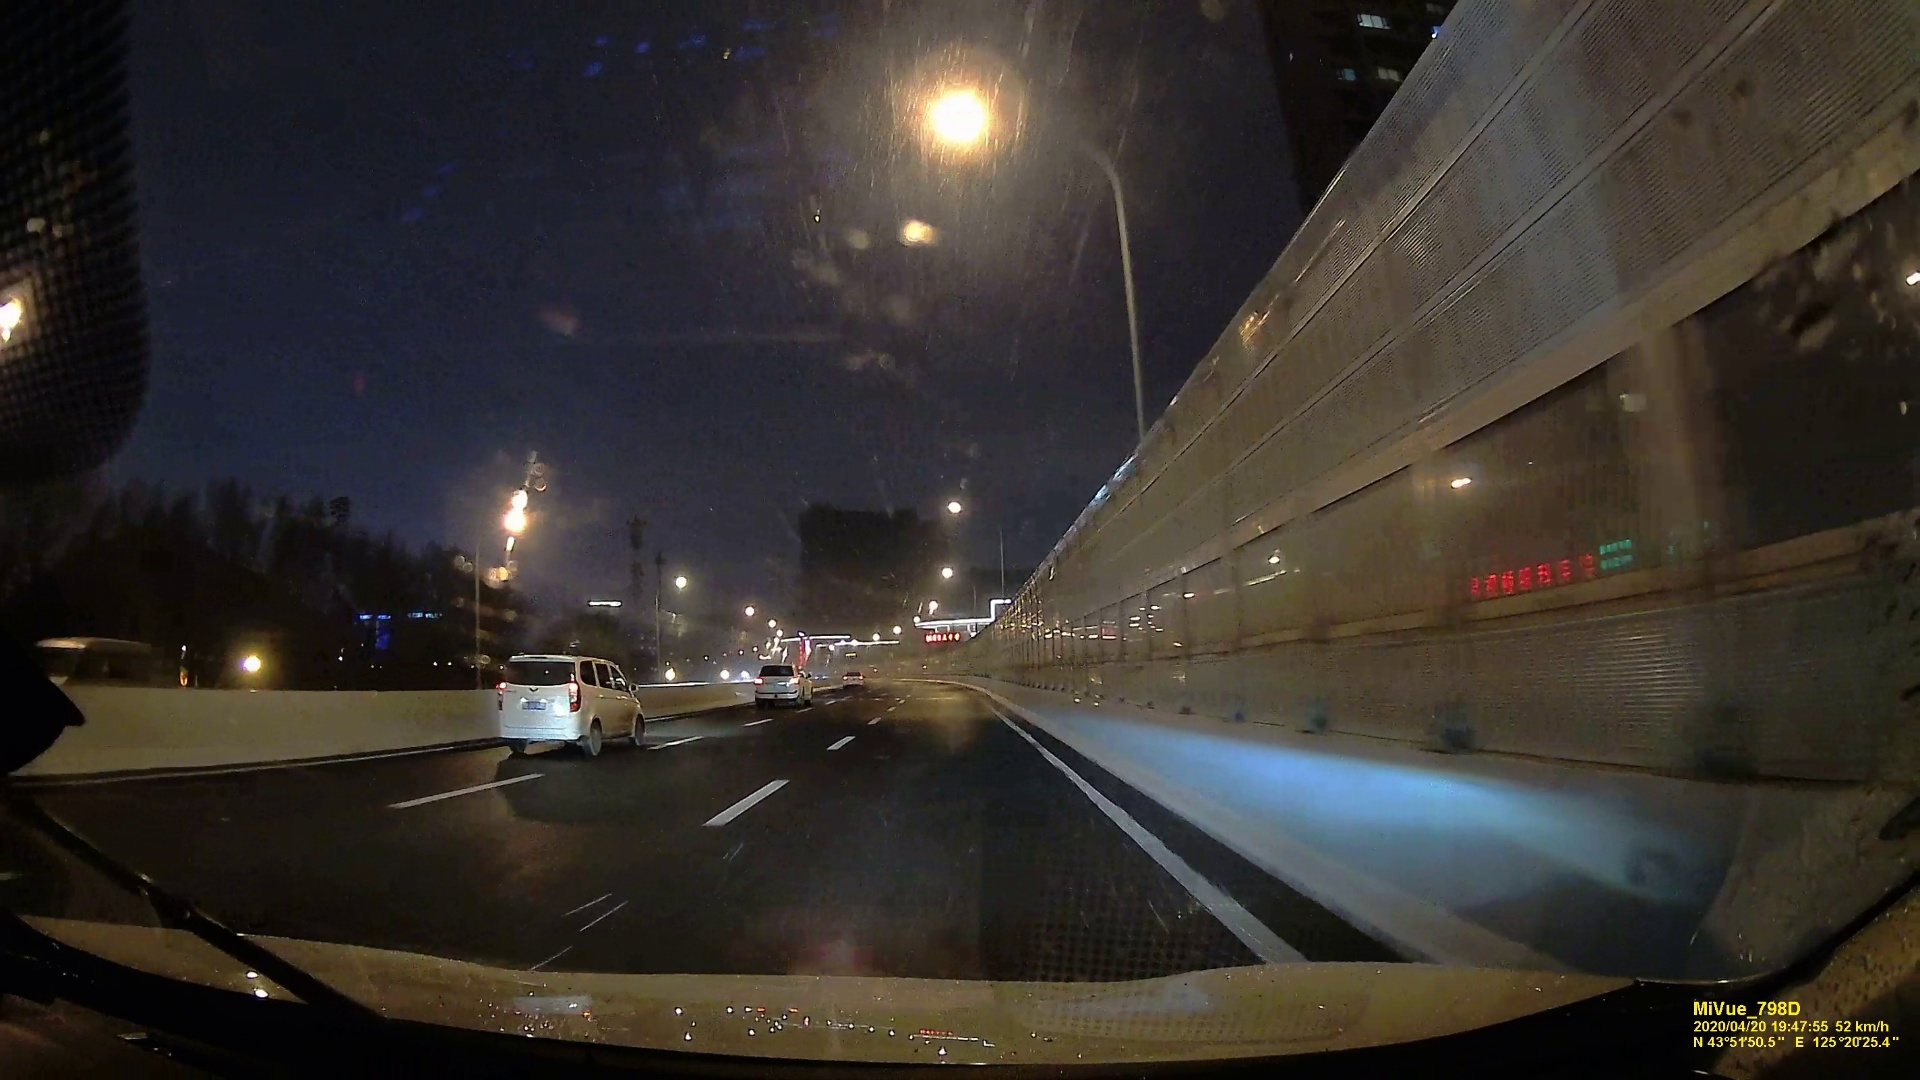minibus: (487, 650, 647, 760)
vehicle: (750, 663, 808, 707), (843, 670, 864, 688)
